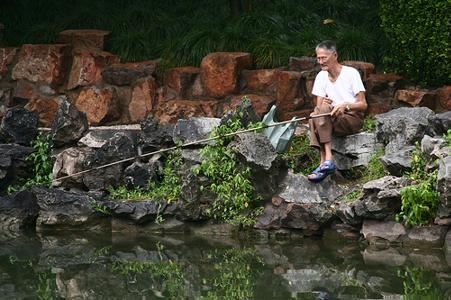person: (307, 42, 368, 182)
